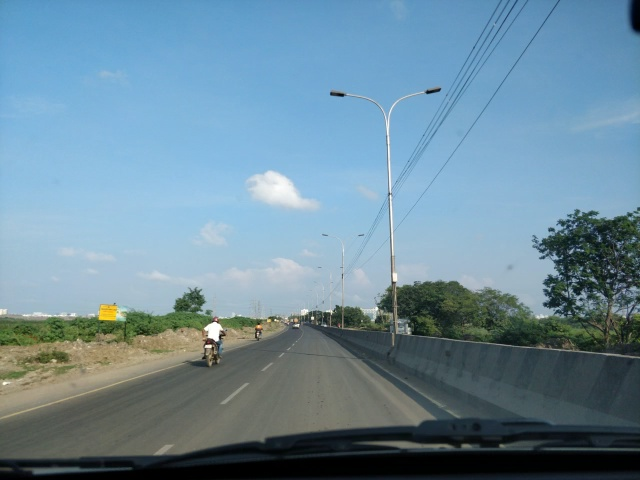car: (375, 302, 423, 341), (289, 317, 306, 333)
motorbike: (197, 298, 229, 375), (247, 306, 269, 346)
